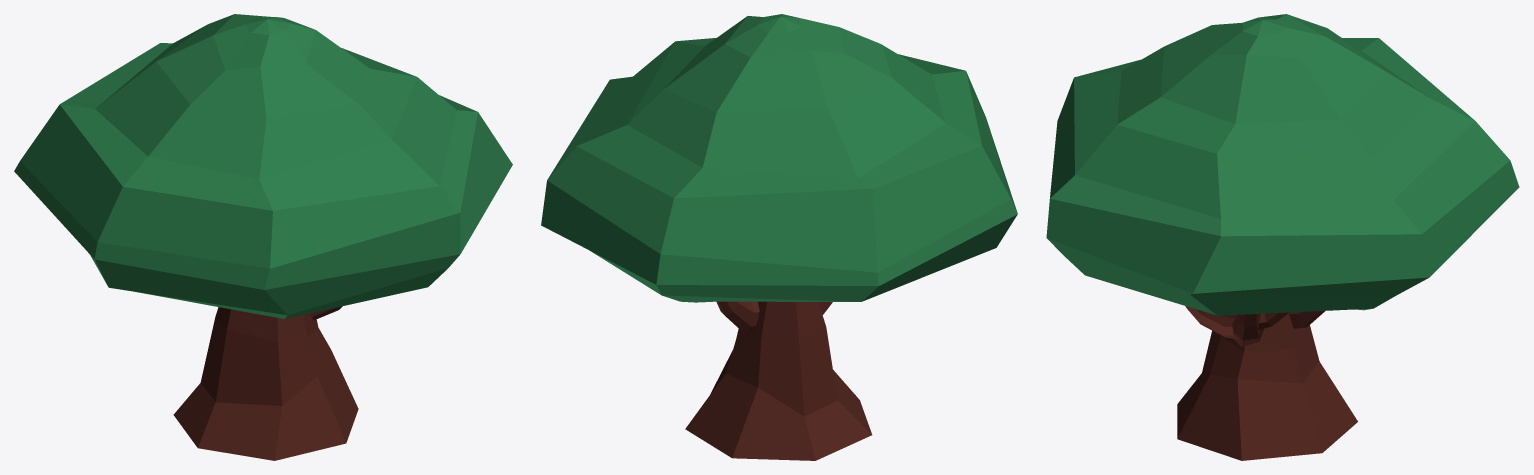
Rendered from tree_16.FBX.
The picture shows the model from 3 angles, left to right: view 1: azimuth 30°, elevation 25°; view 2: azimuth 150°, elevation 25°; view 3: azimuth 270°, elevation 25°; orthographic projection.
Parts seen in each view (by area): view 1: tree_16; view 2: tree_16; view 3: tree_16.
Boxes of the visible parts, x1,y1,x2,y2 form: tree_16: (14, 14, 512, 460); tree_16: (541, 14, 1017, 460); tree_16: (1046, 14, 1519, 460).
Bounding box in the file's own units: 10.68 × 9.9 × 10.56.
1 material, 1 textured.
